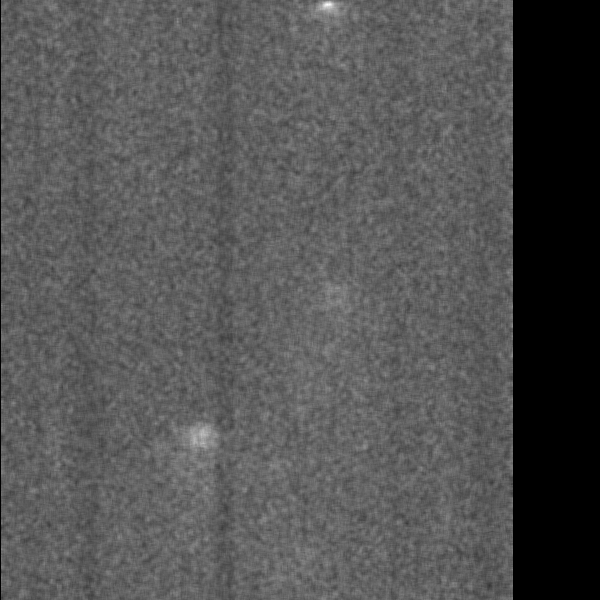spark: (181, 413, 222, 488), (310, 276, 356, 325)
